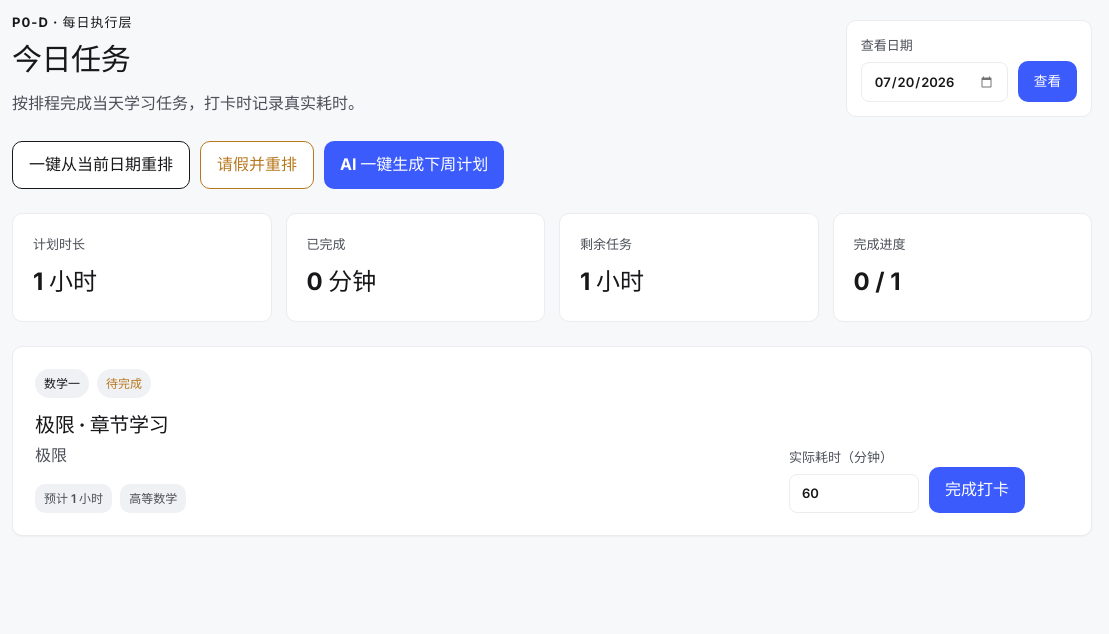
TodayView › renders the daily summary and completes a task
The width and height of the screenshot is (1109, 634).
Replace the text in the number field labelled "实际耗时（分钟）" with "55" at {"x": 854, "y": 493}, box [789, 474, 919, 513]
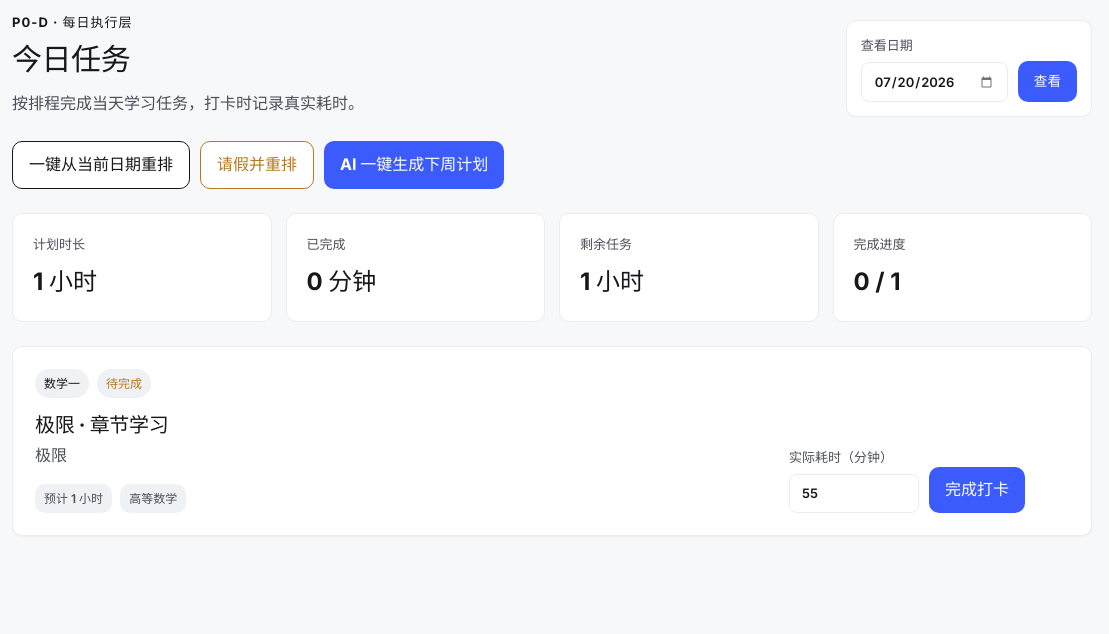
Click the button with class "complete-button" at {"x": 977, "y": 490}, box [929, 467, 1025, 513]
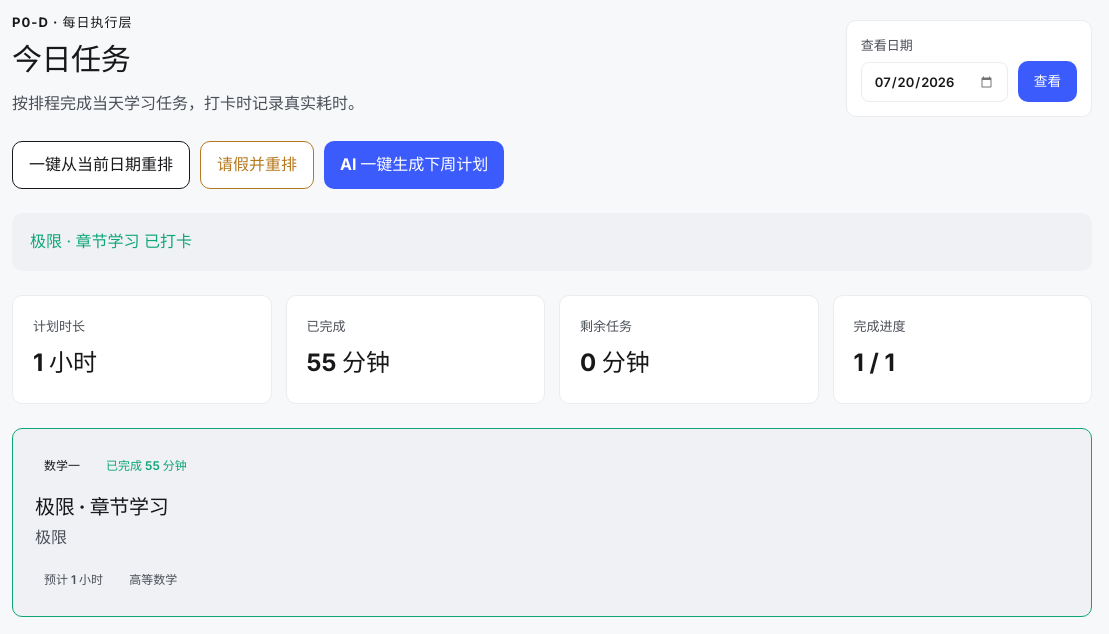
Expected: the text "已完成 55 分钟" is shown, [286, 295, 545, 404]
Expected: the text "极限 · 章节学习 已打卡" is shown, [12, 213, 1092, 271]
